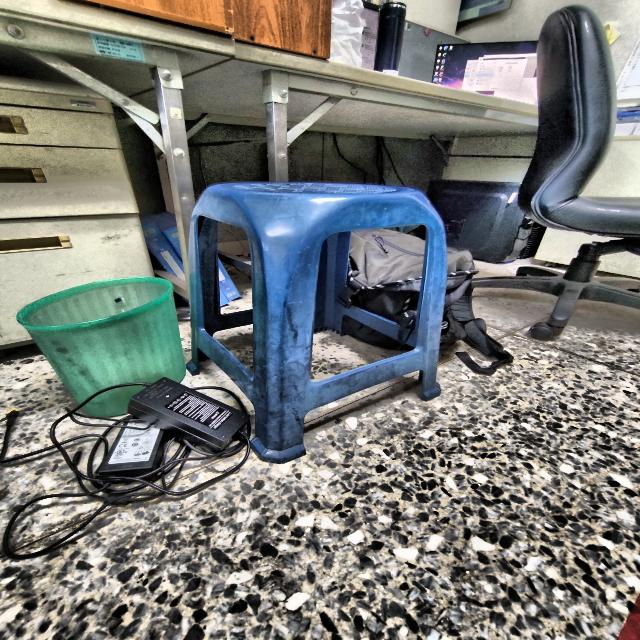cadeira: (175, 165, 460, 463), (509, 0, 640, 351)
